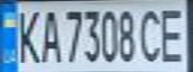0: (100, 6, 121, 63)
3: (81, 6, 103, 63)
7: (60, 6, 84, 63)
8: (115, 6, 142, 63)
A: (36, 6, 63, 64)
C: (136, 4, 166, 64)
E: (154, 2, 190, 65)
K: (9, 6, 42, 64)
